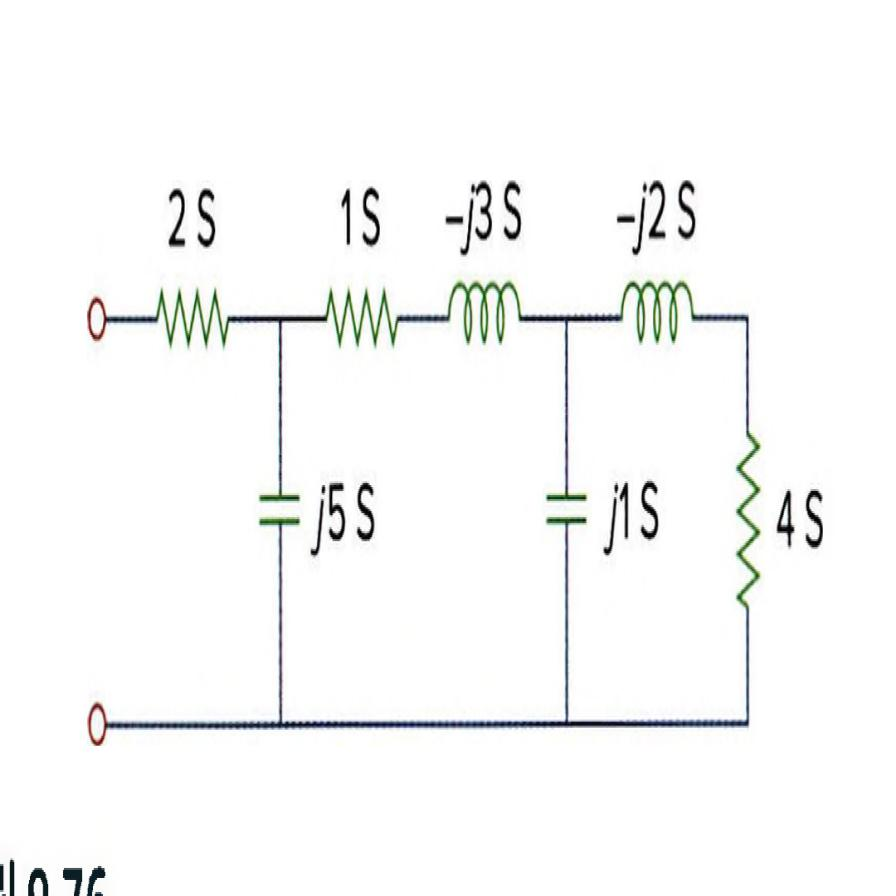C2: (244, 459, 306, 564), (538, 460, 592, 574)
L1: (433, 259, 532, 375), (607, 261, 700, 371)
